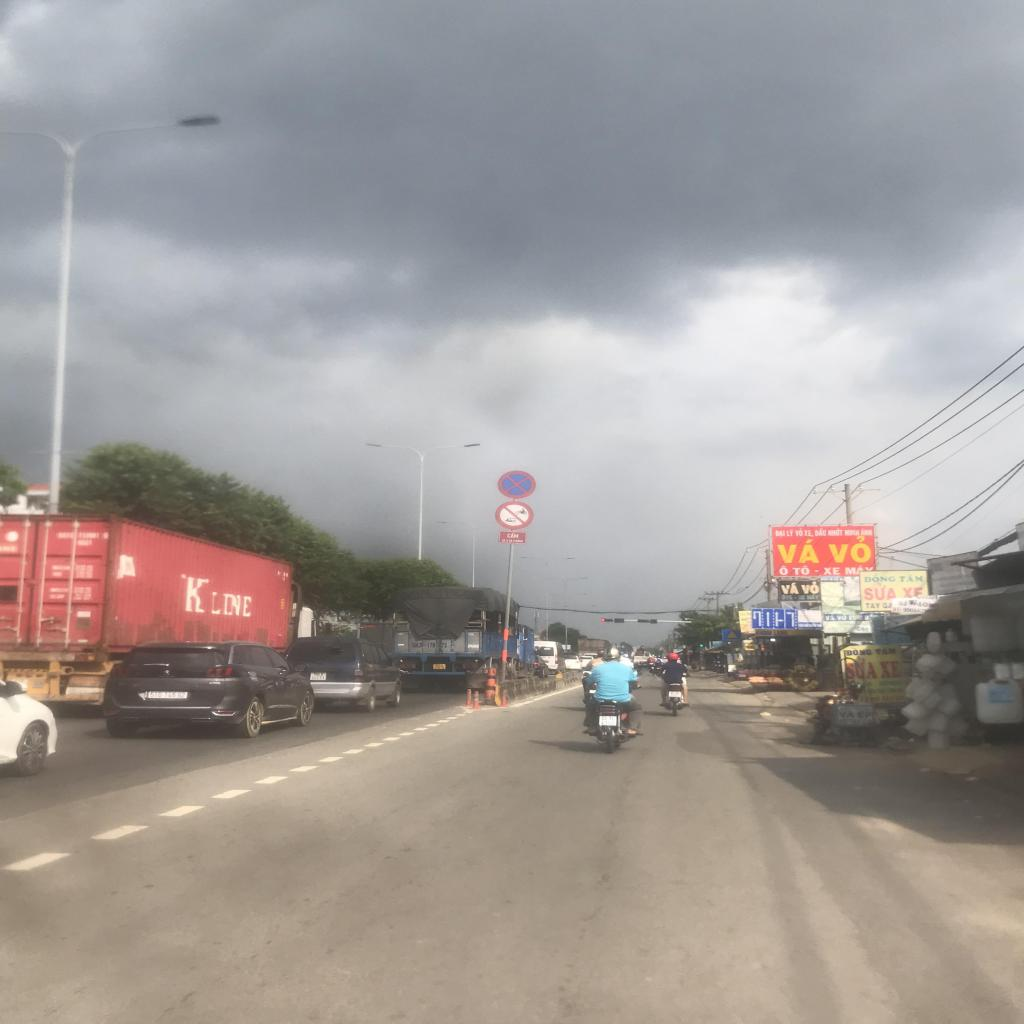cam_dung_xe_va_do_xe: (498, 470, 536, 499)
cam_xe_2_banh_va_xe_3_banh_co_dong_co: (495, 501, 534, 530)
cho: (722, 630, 740, 641)
huong_di_tren_moi_lan_duong_theo_vach_ke_duong: (751, 608, 798, 629)
